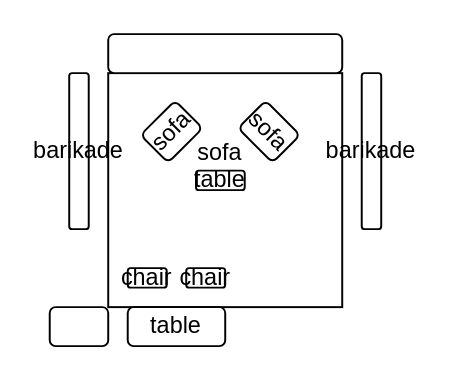
Some shapes in this 449 by 380 pixel diagram are drawn without their labels. The shapes that lost their labels are listed below. From the top down, each one's centre as x and y in pixels, then its label:
At pixel 224 52: "backdrop".
At pixel 78 325: "TV".
